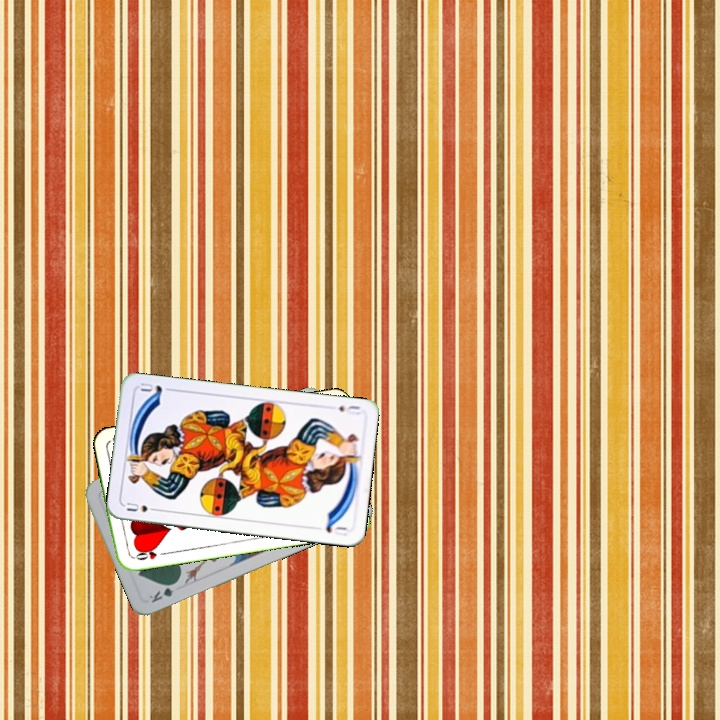GK: (145, 578, 181, 606)
HO: (127, 543, 168, 563)
SU: (122, 498, 162, 514), (335, 401, 363, 416)
